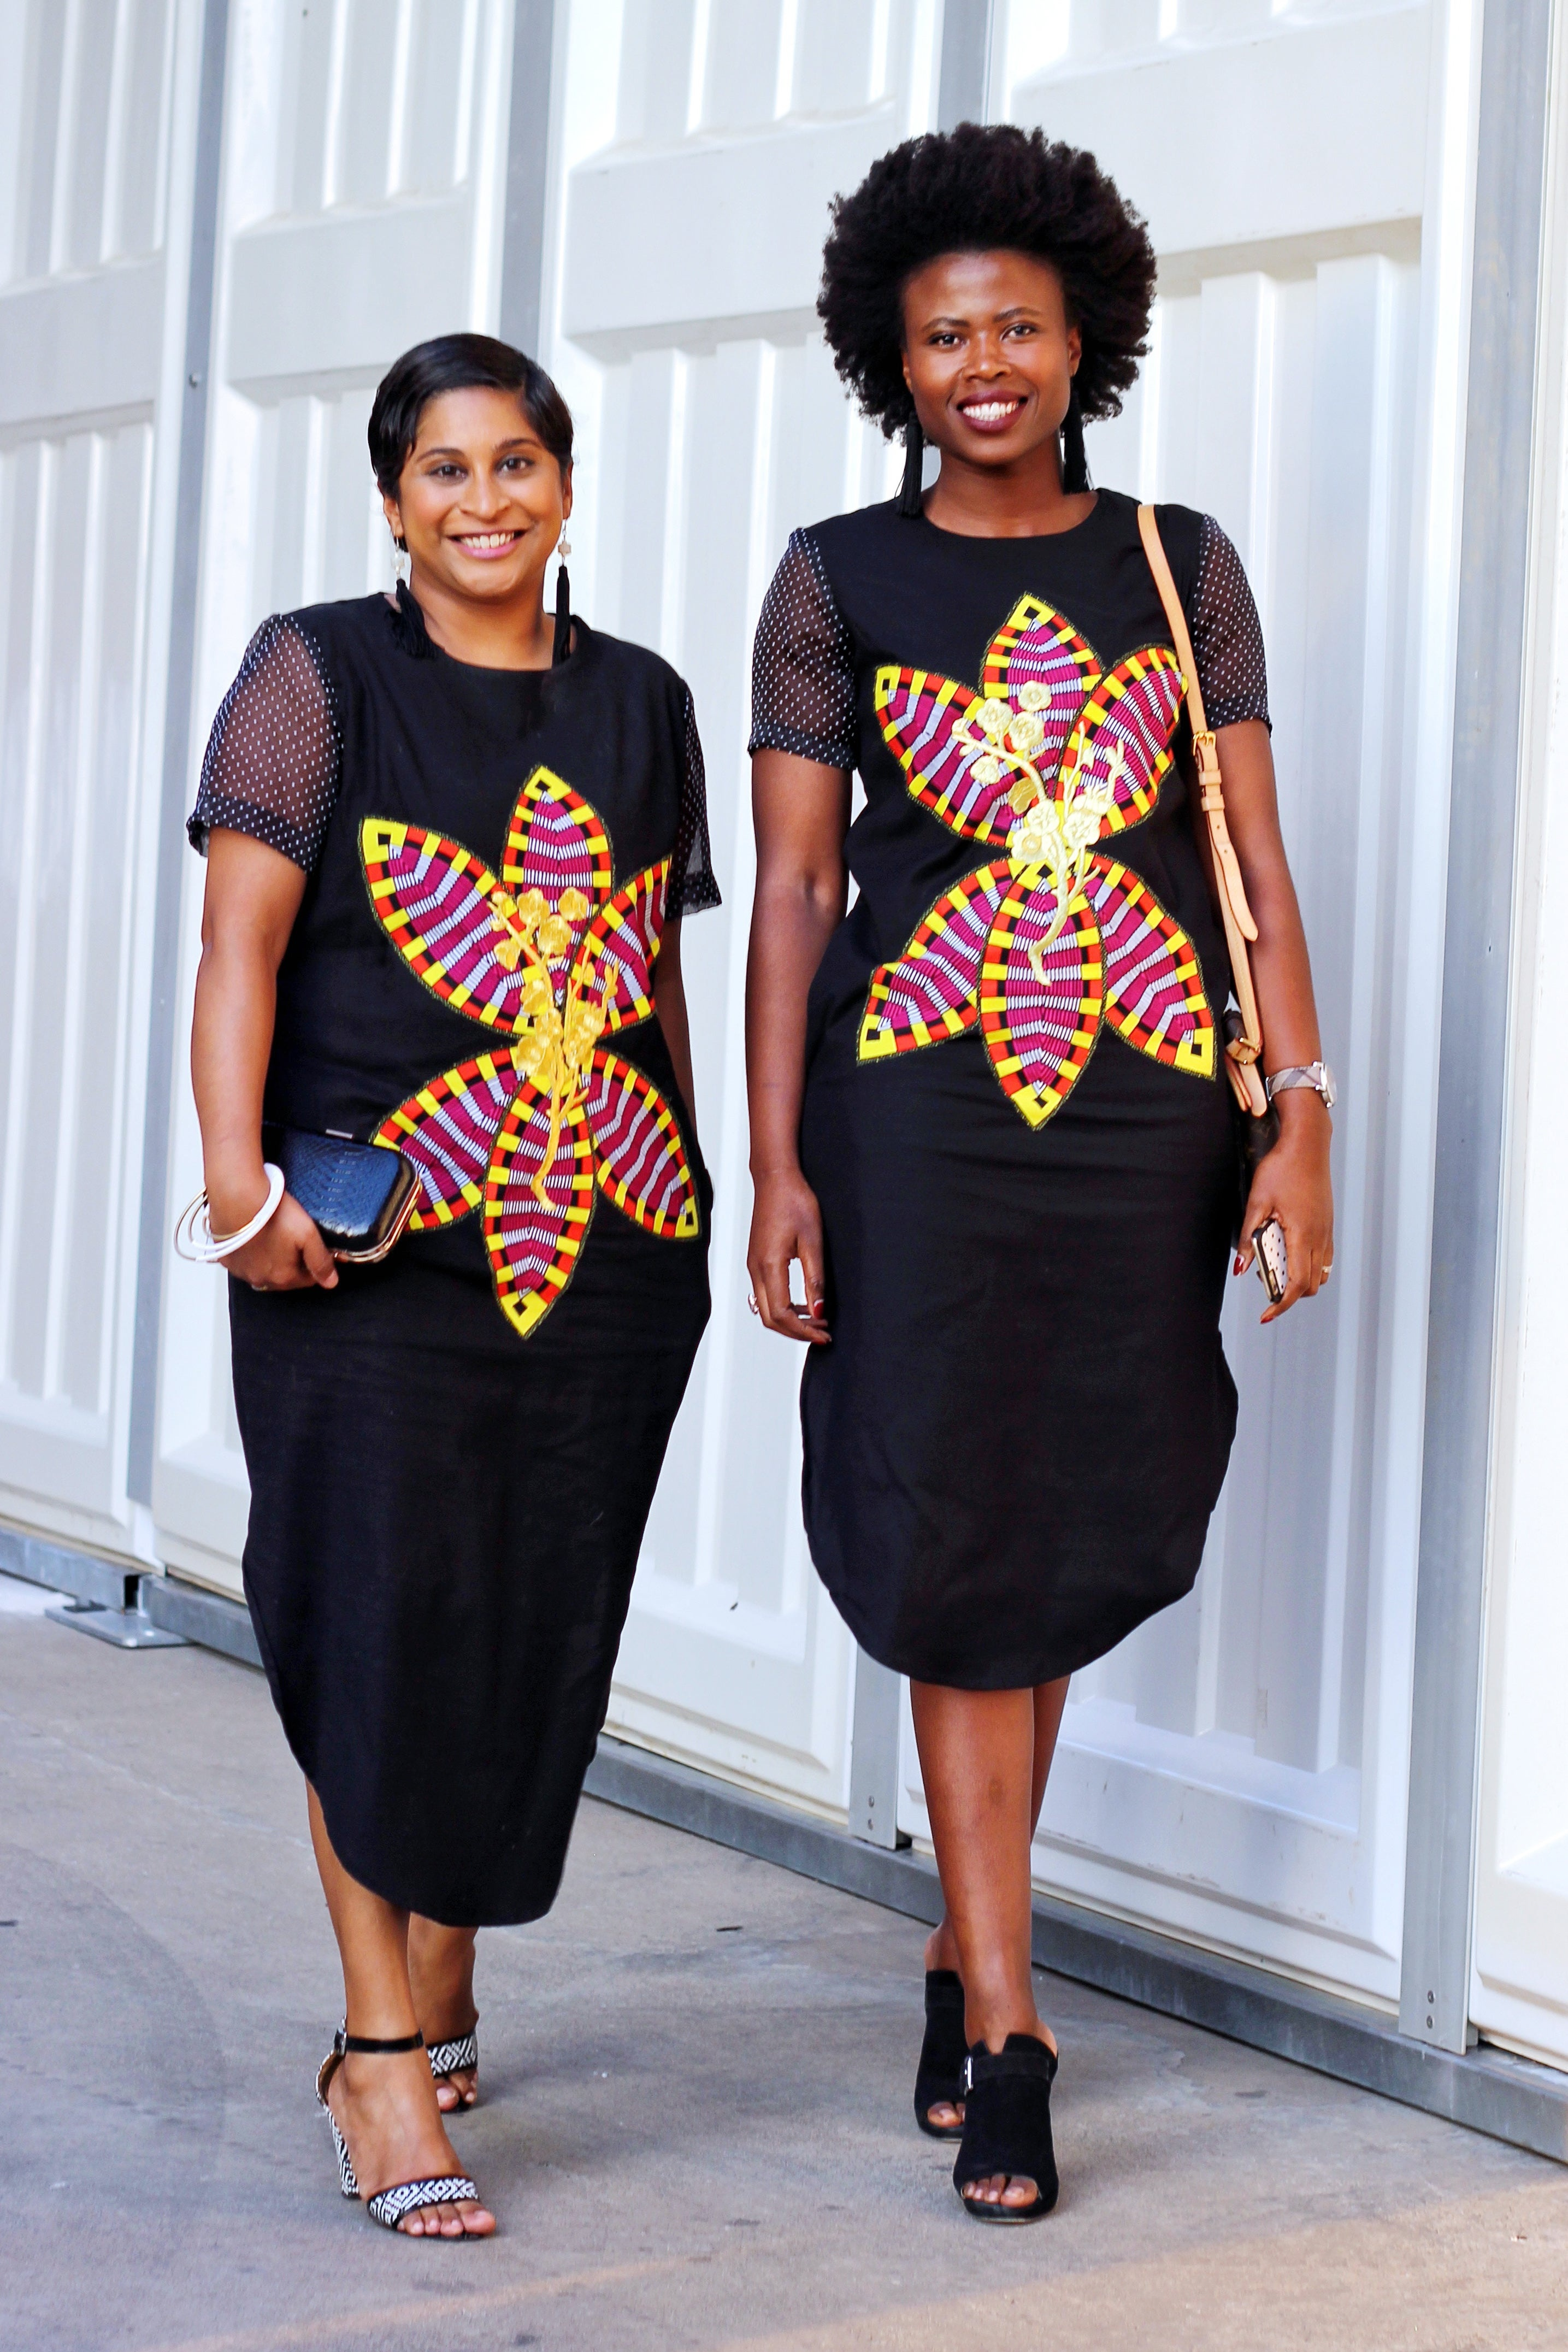mouth: (952, 390, 1029, 429), (445, 528, 534, 560)
nose: (459, 495, 509, 518), (959, 362, 1012, 383)
